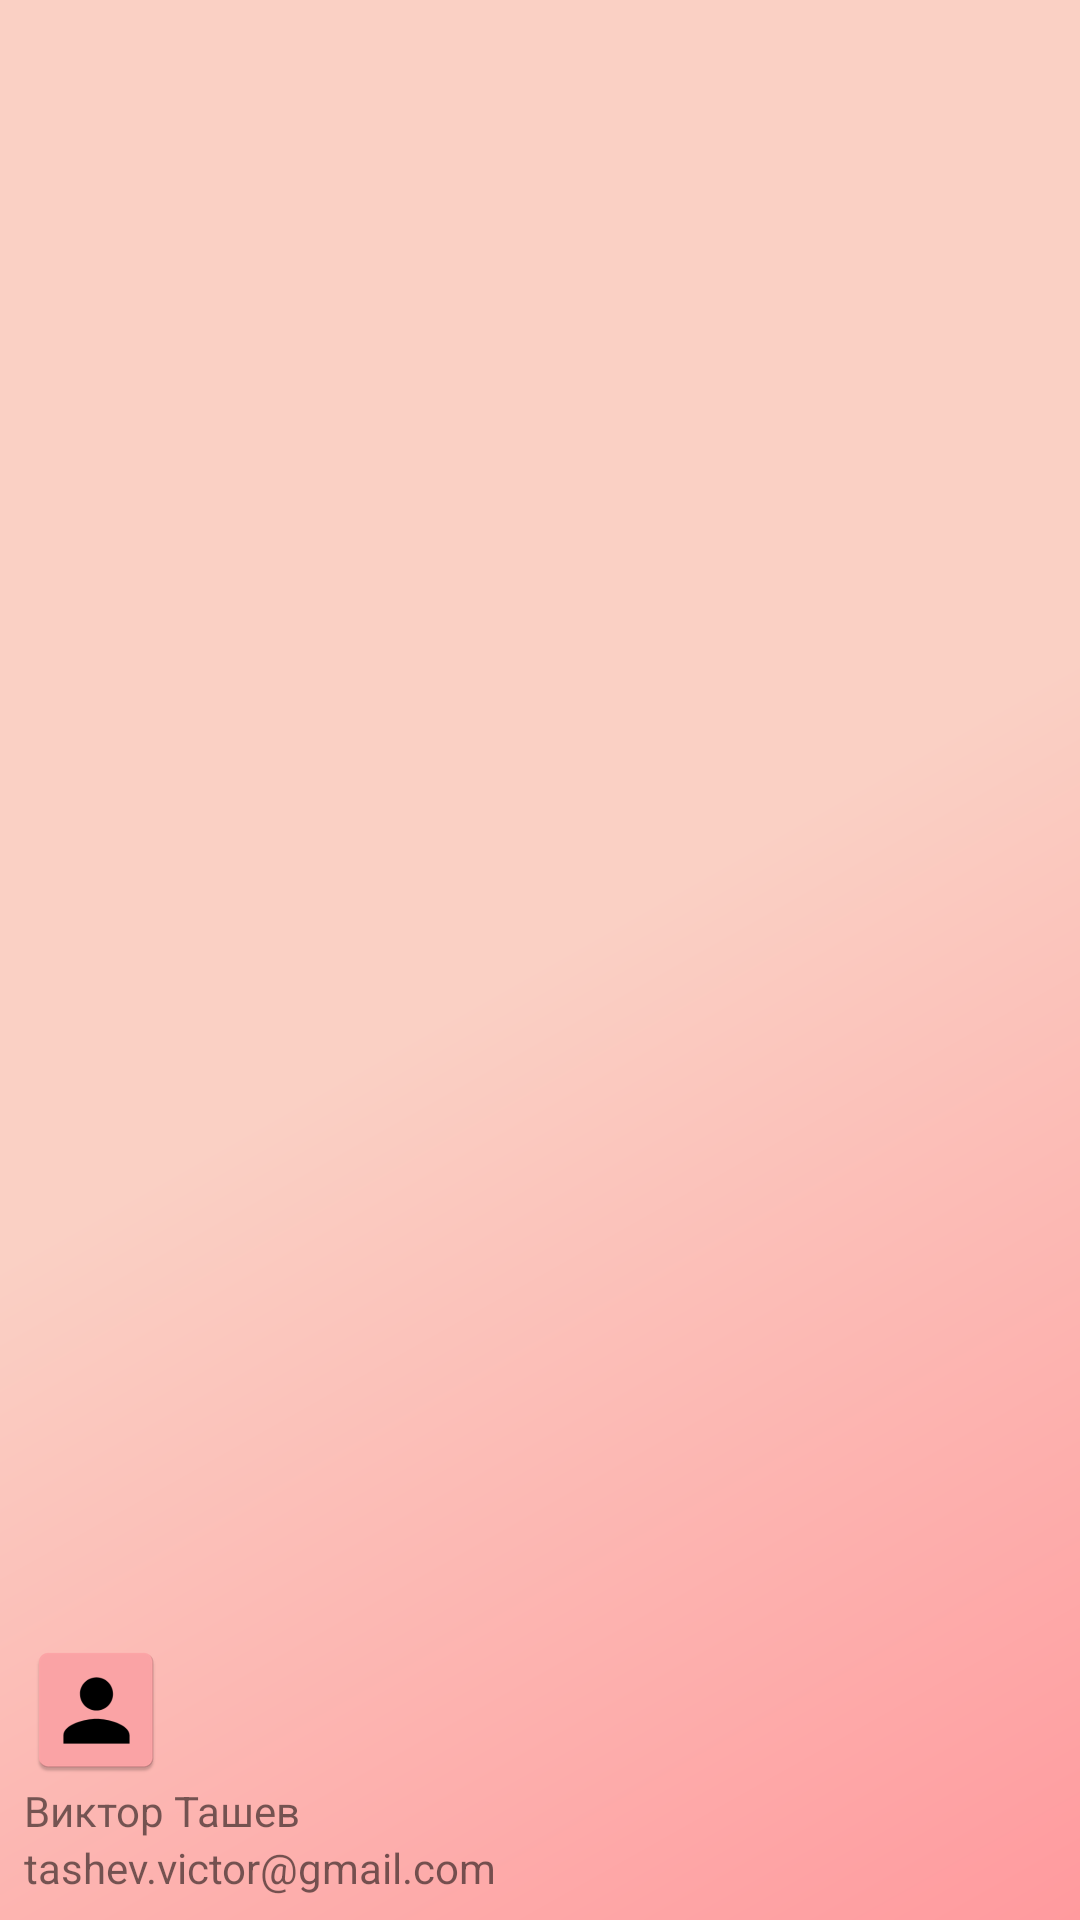

Named icons in this screenshot (1080x1920) and their centers, (x=x, y=y):
person: (x=96, y=1712)
